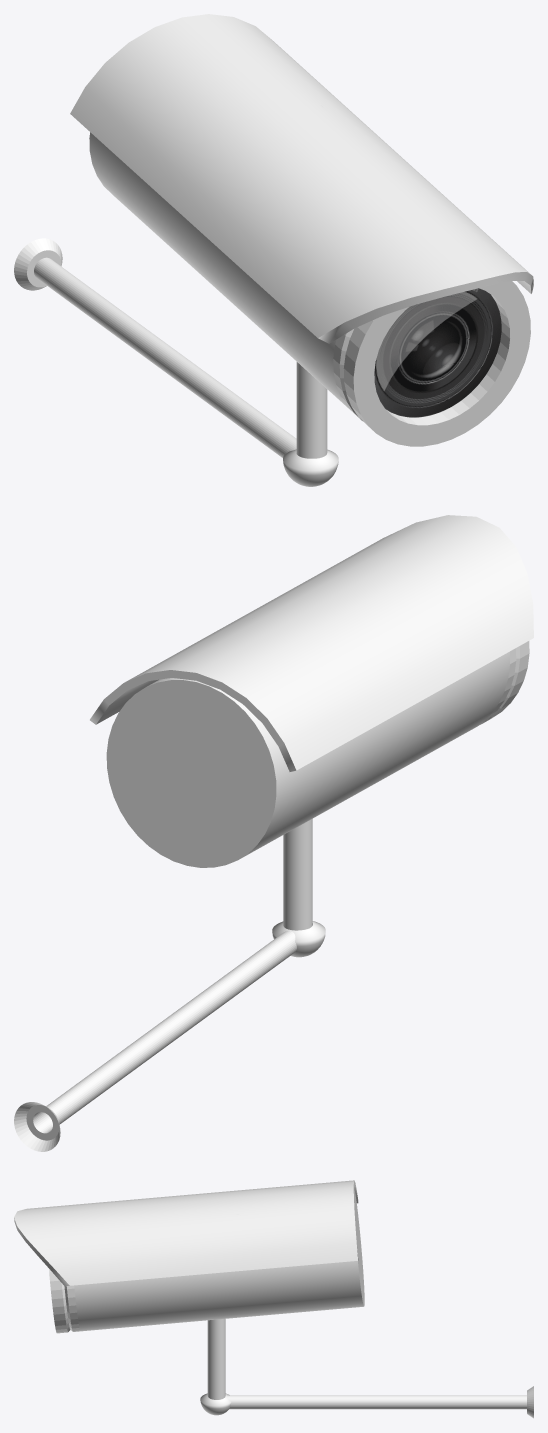
Rendered from 08 CCTV.fbx.
3 views of the same model, one above another, from view 1: azimuth 30°, elevation 25°; view 2: azimuth 150°, elevation 25°; view 3: azimuth 270°, elevation 25° (orthographic). The views are drawn at different scales.
Parts seen in each view (by area): view 1: Box003, Cylinder002, Object001, Cylinder003, Cylinder008, Sphere001; view 2: Box003, Cylinder002, Cylinder003, Cylinder008, Sphere001; view 3: Box003, Cylinder002, Cylinder003, Cylinder008, Sphere001.
Part boxes in pixels (x1,y1,x2,y2): Box003: (70, 14, 533, 343); Cylinder002: (89, 132, 530, 446); Object001: (374, 288, 501, 417); Cylinder003: (14, 238, 296, 457); Cylinder008: (296, 362, 327, 458); Sphere001: (283, 449, 338, 486); Box003: (90, 515, 533, 771); Cylinder002: (106, 641, 529, 867); Cylinder003: (14, 930, 296, 1151); Cylinder008: (283, 819, 312, 930); Sphere001: (272, 921, 325, 957); Box003: (14, 1180, 358, 1286); Cylinder002: (49, 1190, 364, 1333); Cylinder003: (226, 1386, 533, 1418); Cylinder008: (207, 1319, 225, 1399); Sphere001: (200, 1393, 231, 1415).
Bounding box in the file's own units: 24.4 × 41.93 × 87.43.
2 materials, 2 textured.
